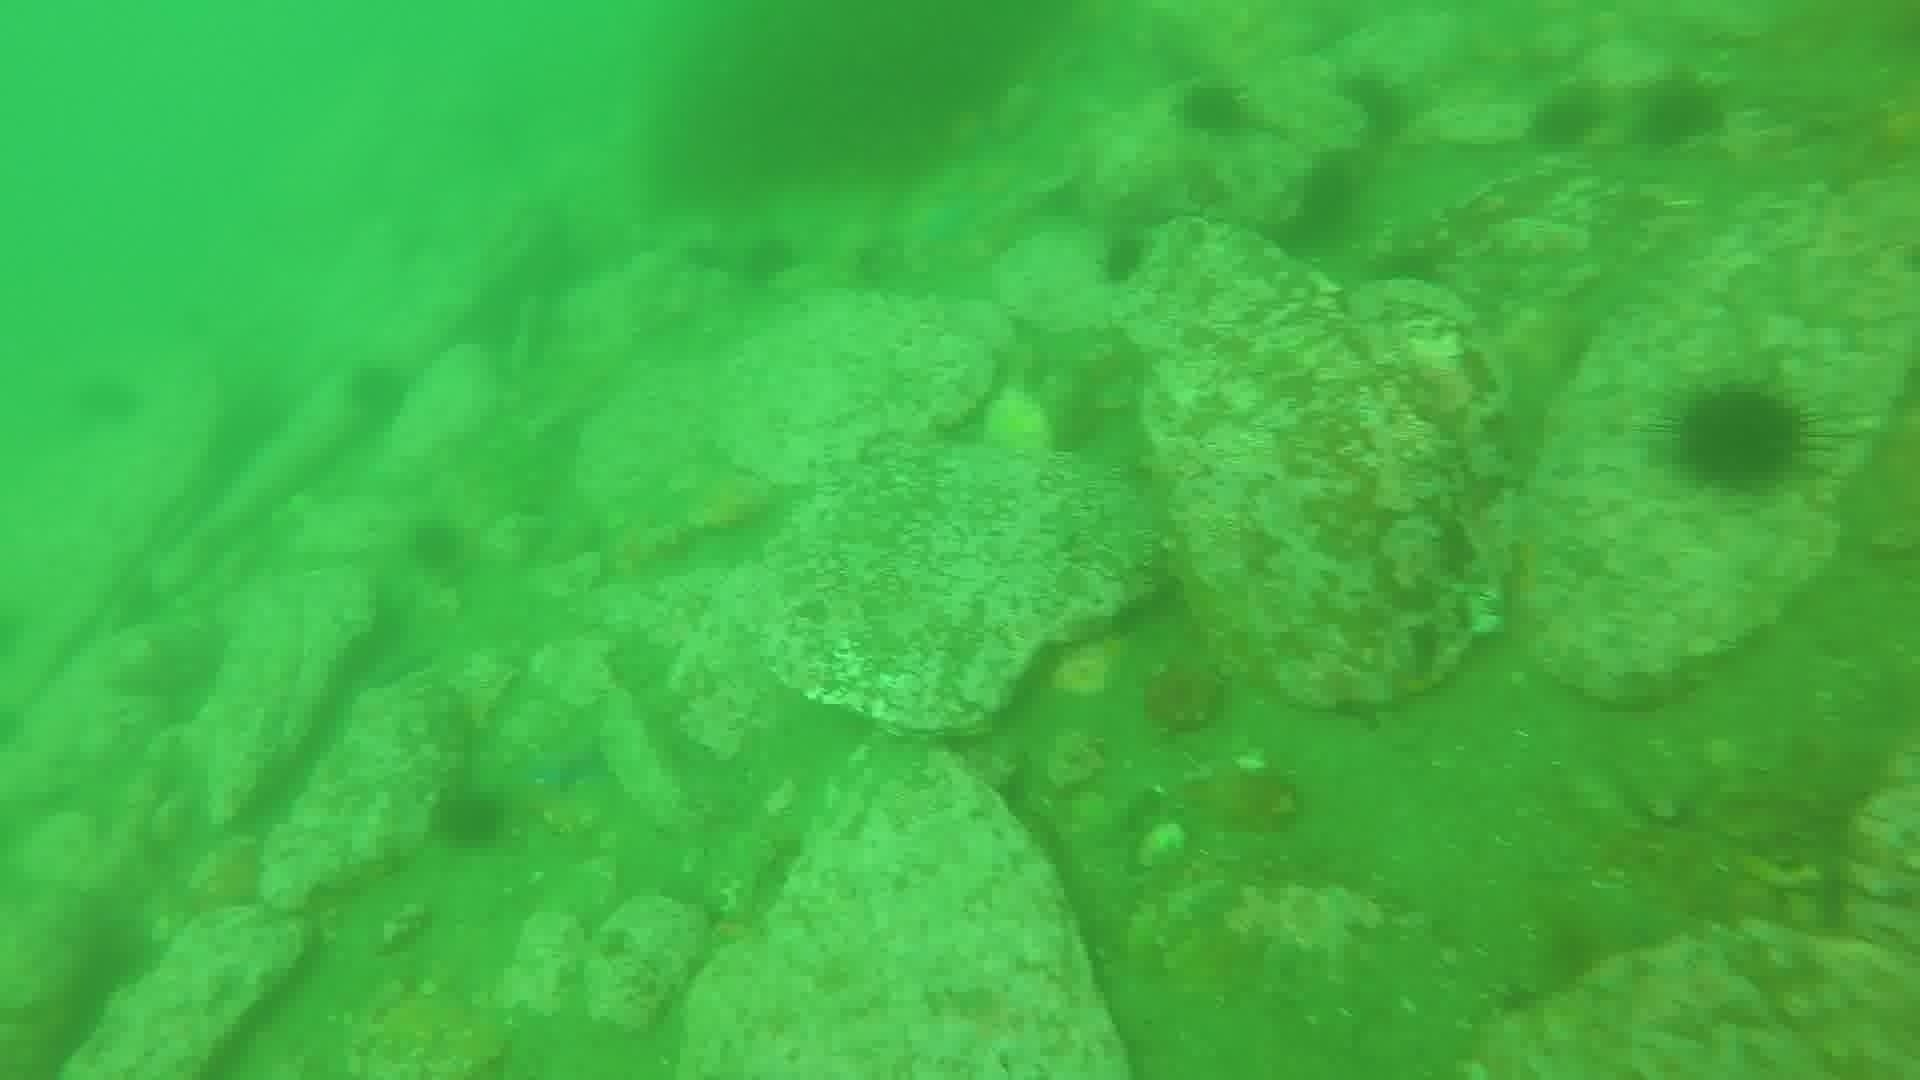echinus: (1665, 378, 1812, 497), (1635, 74, 1729, 154), (1288, 152, 1369, 243), (1335, 66, 1415, 144), (429, 781, 512, 855), (1526, 84, 1607, 156), (342, 357, 415, 431), (1172, 76, 1254, 142), (69, 368, 146, 433), (402, 512, 473, 579), (735, 231, 802, 291), (1092, 228, 1154, 289)
starfish: (504, 727, 611, 808)
